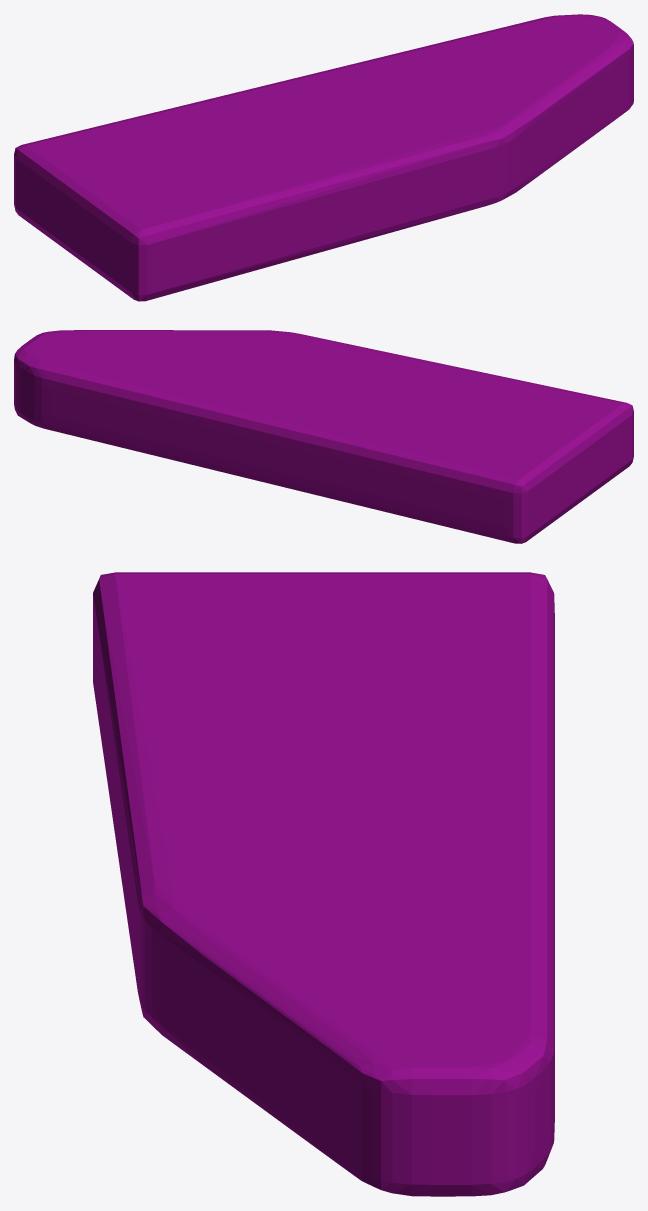
The model's file is right_ankle_link_part_14.obj.
3 views of the same model, one above another, from view 1: azimuth 30°, elevation 25°; view 2: azimuth 150°, elevation 25°; view 3: azimuth 270°, elevation 25° (orthographic). The views are drawn at different scales.
Size of the model in its own units: 0.0764 by 0.00887 by 0.0292.
